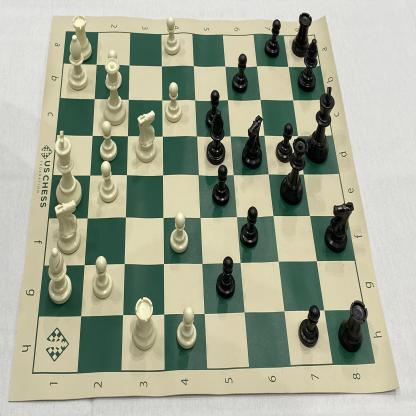black-bishop: (298, 38, 318, 93), (207, 109, 227, 163)
black-knight: (306, 85, 336, 163), (325, 199, 354, 255), (240, 115, 264, 172)
black-pawn: (215, 254, 237, 300), (299, 302, 320, 349), (210, 165, 231, 208), (240, 205, 260, 249), (275, 121, 293, 164), (205, 88, 223, 131), (231, 53, 249, 95), (264, 18, 281, 59)
black-queen: (284, 137, 305, 206)
black-rook: (339, 297, 369, 355), (291, 10, 313, 59)
white-bishop: (46, 246, 73, 305), (66, 33, 89, 92)
white-king: (53, 129, 83, 211)
white-knight: (134, 109, 158, 164)
white-pawn: (176, 306, 199, 351), (98, 159, 119, 205), (170, 207, 189, 255), (98, 120, 118, 162), (94, 257, 113, 299), (165, 81, 183, 124), (163, 16, 181, 57), (105, 48, 122, 88)
white-queen: (100, 57, 128, 127)
white-rook: (131, 295, 158, 352), (72, 14, 93, 62)
